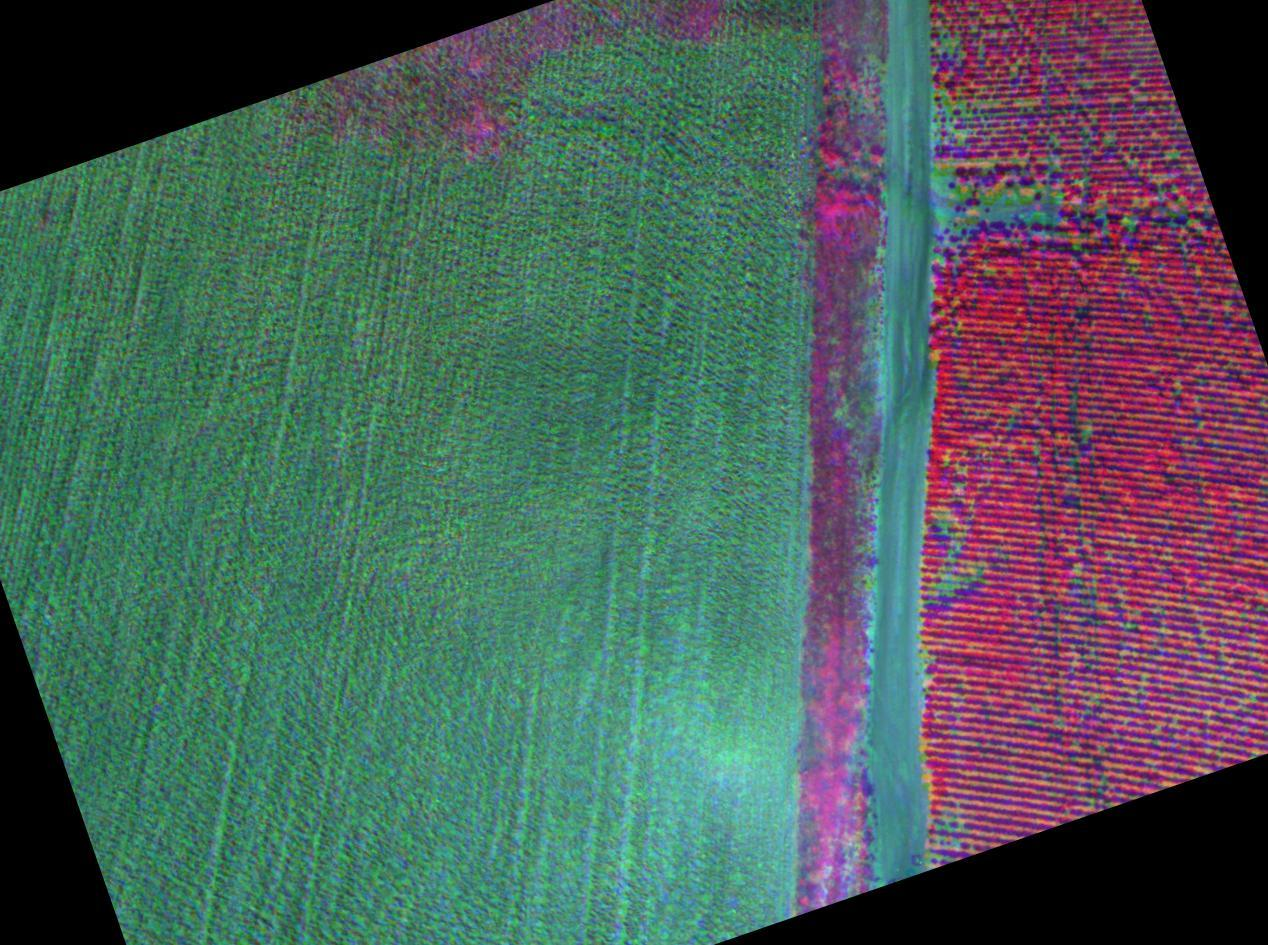dc: (944, 40, 958, 55), (1014, 99, 1040, 106), (945, 576, 956, 588), (1074, 244, 1084, 256), (1124, 220, 1134, 231), (1079, 430, 1090, 440), (975, 224, 988, 232), (1099, 202, 1107, 212)
